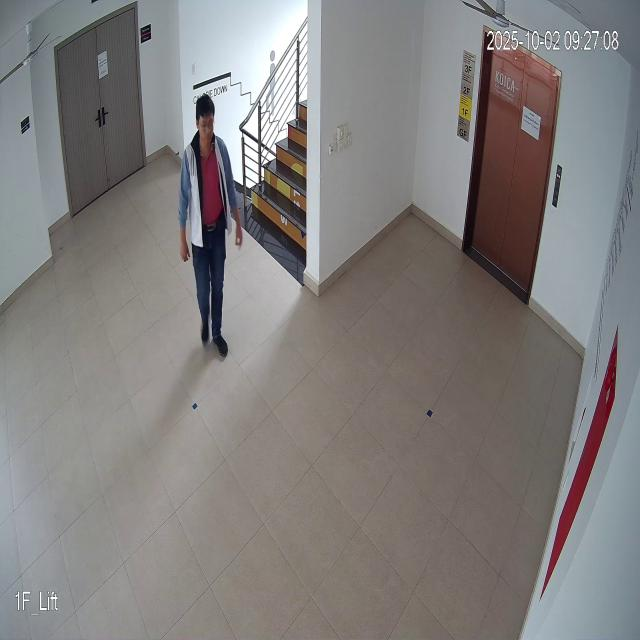face: (192, 91, 220, 155)
